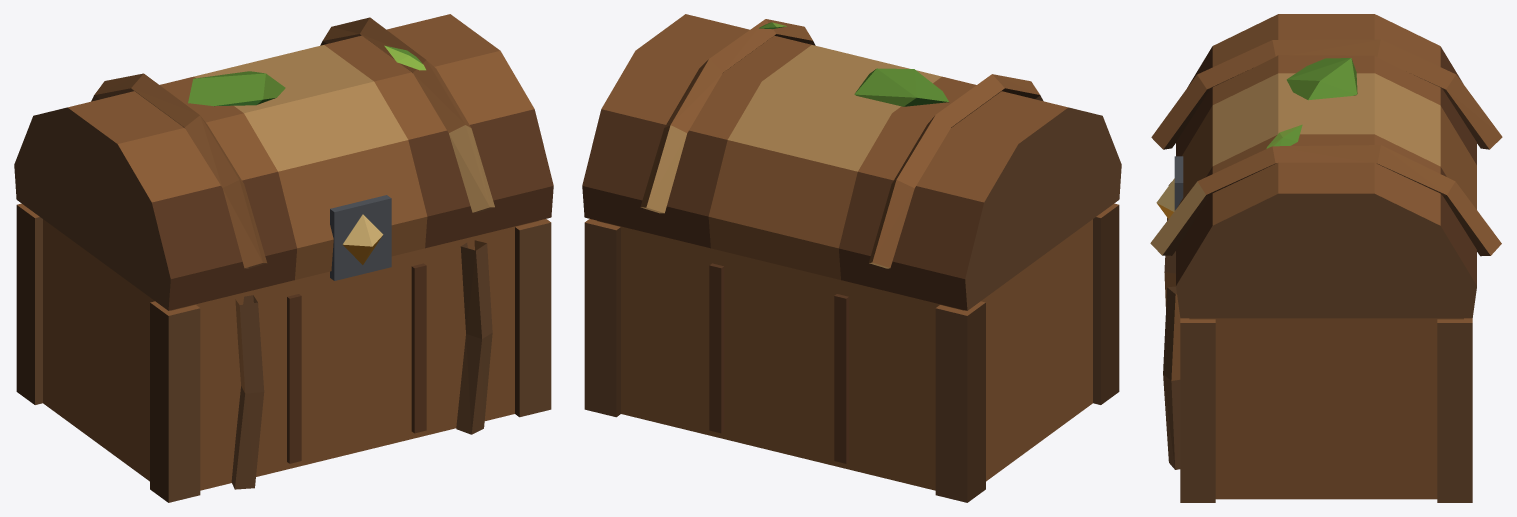
The model's file is burrow_chest.glb.
3 views of the same model, side by side, from view 1: azimuth 30°, elevation 25°; view 2: azimuth 150°, elevation 25°; view 3: azimuth 270°, elevation 25° (orthographic). The views are drawn at different scales.
Parts seen in each view (by area): view 1: lid, burrow_chest; view 2: lid, burrow_chest; view 3: lid, burrow_chest.
Part boxes in pixels (x1=…): lid: x1=14, y1=14, x2=553, y2=310; burrow_chest: x1=16, y1=203, x2=551, y2=502; lid: x1=582, y1=14, x2=1121, y2=310; burrow_chest: x1=584, y1=203, x2=1119, y2=502; lid: x1=1150, y1=14, x2=1502, y2=318; burrow_chest: x1=1163, y1=182, x2=1472, y2=502.
Size of the model in its own units: 0.96 by 0.8214 by 0.7956.
